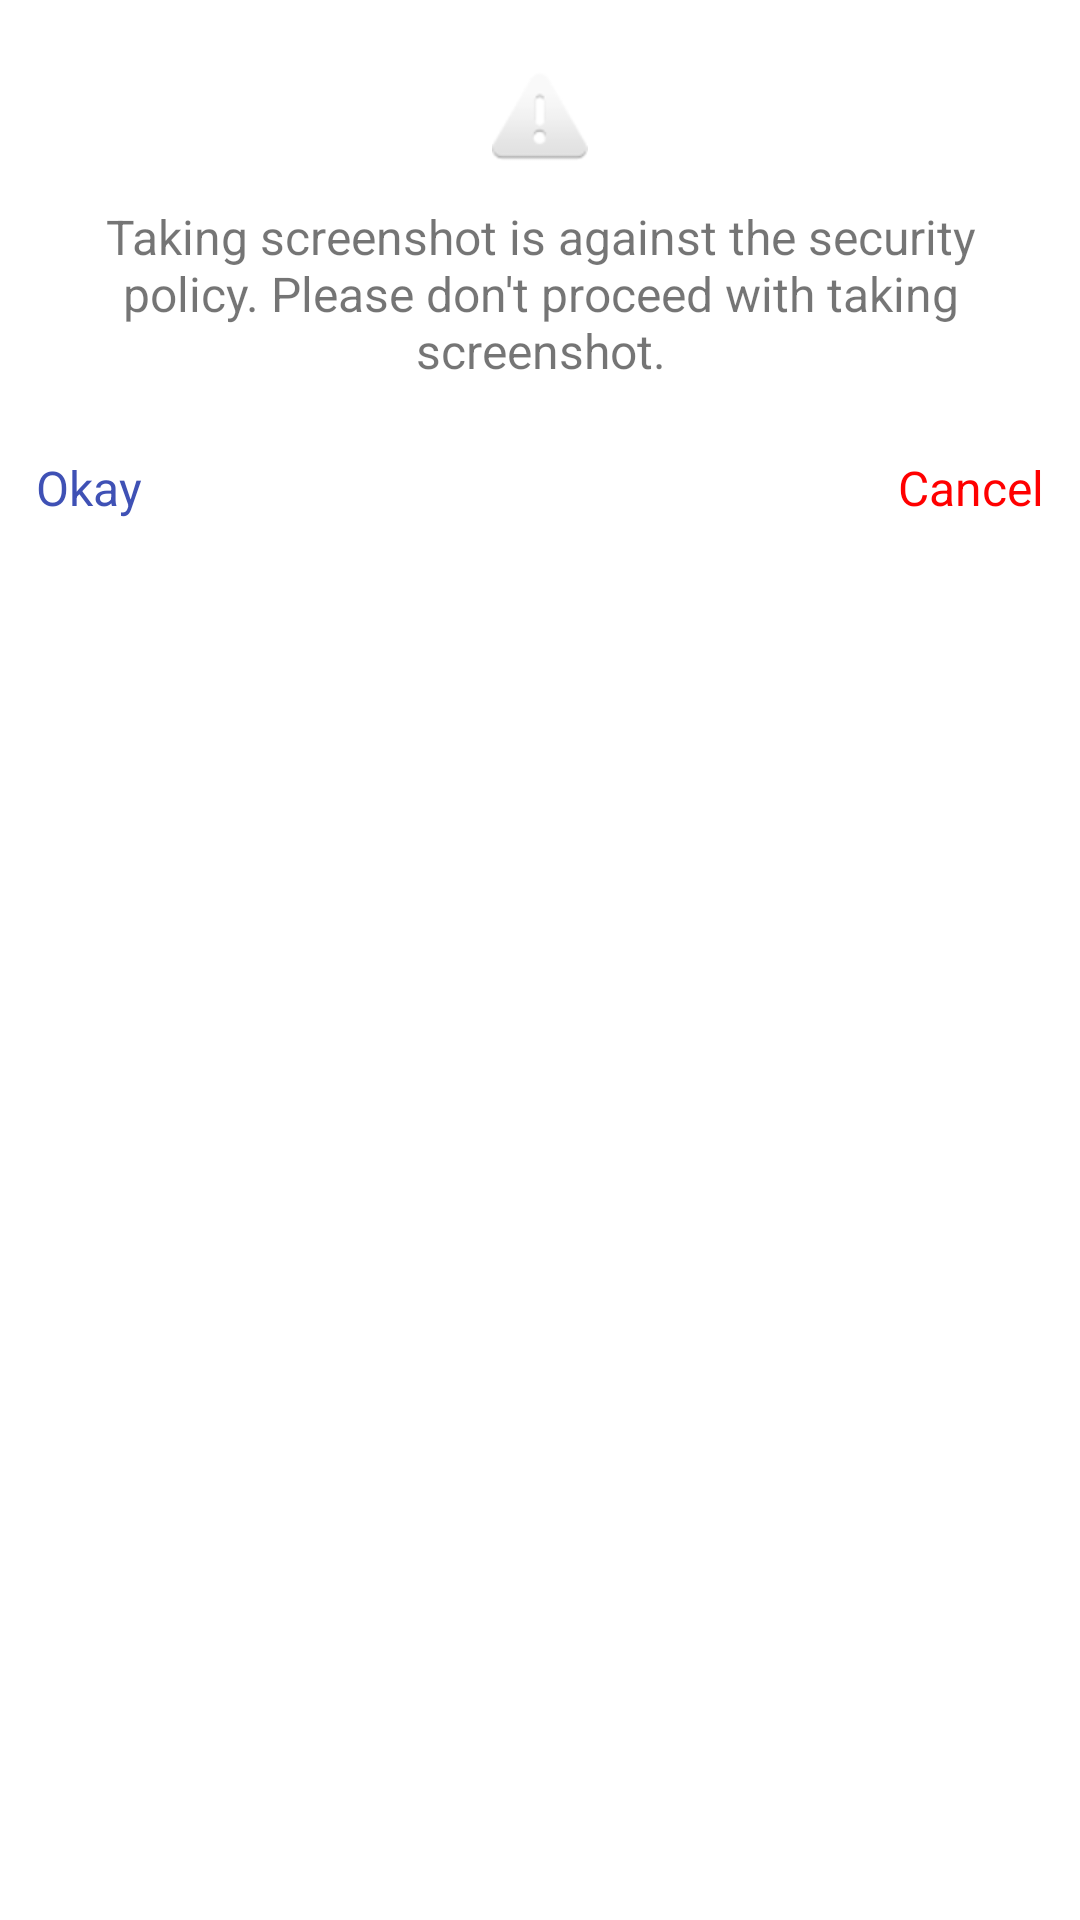

Locate icon controls on the screen. Image size 1080 x 1920, boxes as (x1, y1, x2, y2).
alert: (492, 94, 588, 159)
